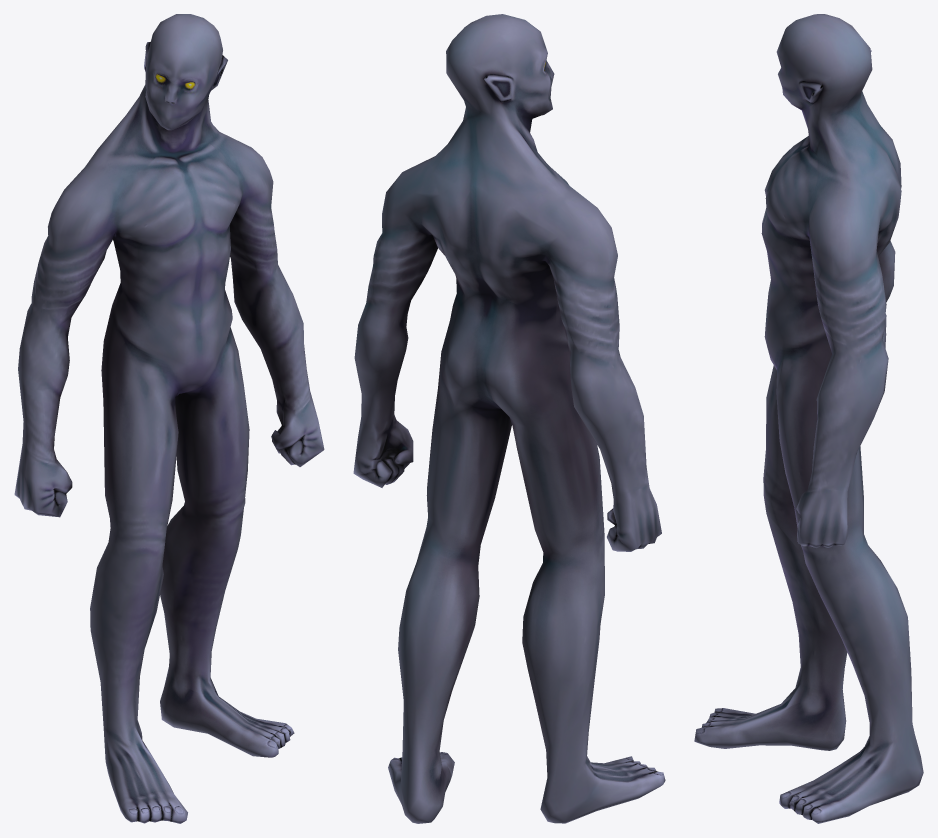
Rendered from MZ4250 - Doppleganger.glb.
3 views of the same model, side by side, from view 1: azimuth 30°, elevation 25°; view 2: azimuth 150°, elevation 25°; view 3: azimuth 270°, elevation 25° (orthographic). The views are drawn at different scales.
Visible parts, largest first — view 1: body_low.001; view 2: body_low.001; view 3: body_low.001.
Boxes of the visible parts, bbox=[...] form: body_low.001: bbox=[14, 14, 324, 823]; body_low.001: bbox=[353, 14, 665, 823]; body_low.001: bbox=[694, 14, 923, 823].
Bounding box in the file's own units: 2.34 × 5.88 × 1.61.
1 material, 1 textured.
